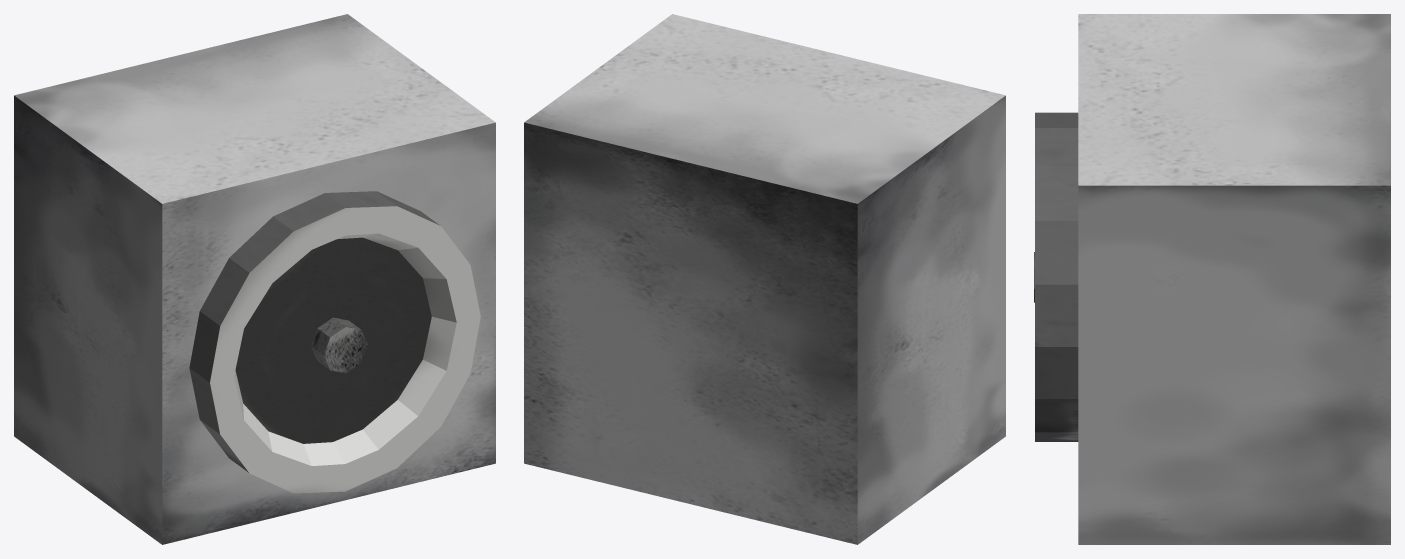
The model's file is aircon4.fbx.
The picture shows the model from 3 angles, left to right: view 1: azimuth 30°, elevation 25°; view 2: azimuth 150°, elevation 25°; view 3: azimuth 270°, elevation 25°; orthographic projection. The views are drawn at different scales.
Visible parts, largest first — view 1: Cube.028; view 2: Cube.028; view 3: Cube.028.
Part boxes in pixels (x1,y1,x2,y2): Cube.028: (14, 14, 495, 544); Cube.028: (524, 14, 1005, 544); Cube.028: (1034, 14, 1390, 544).
Bounding box in the file's own units: 48.7 × 47.57 × 42.8.
